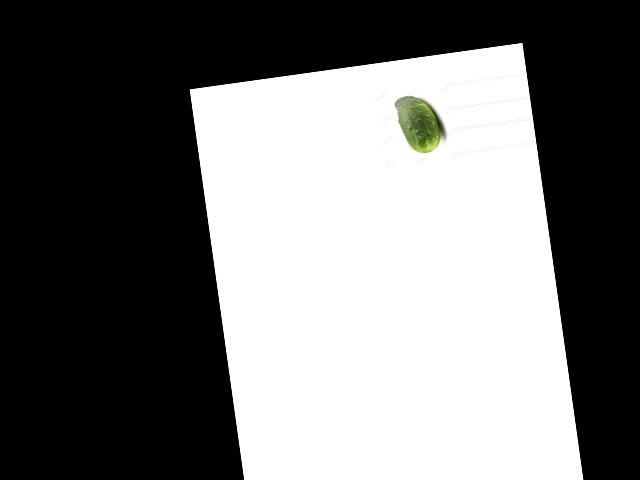cucumber: (394, 92, 443, 156)
